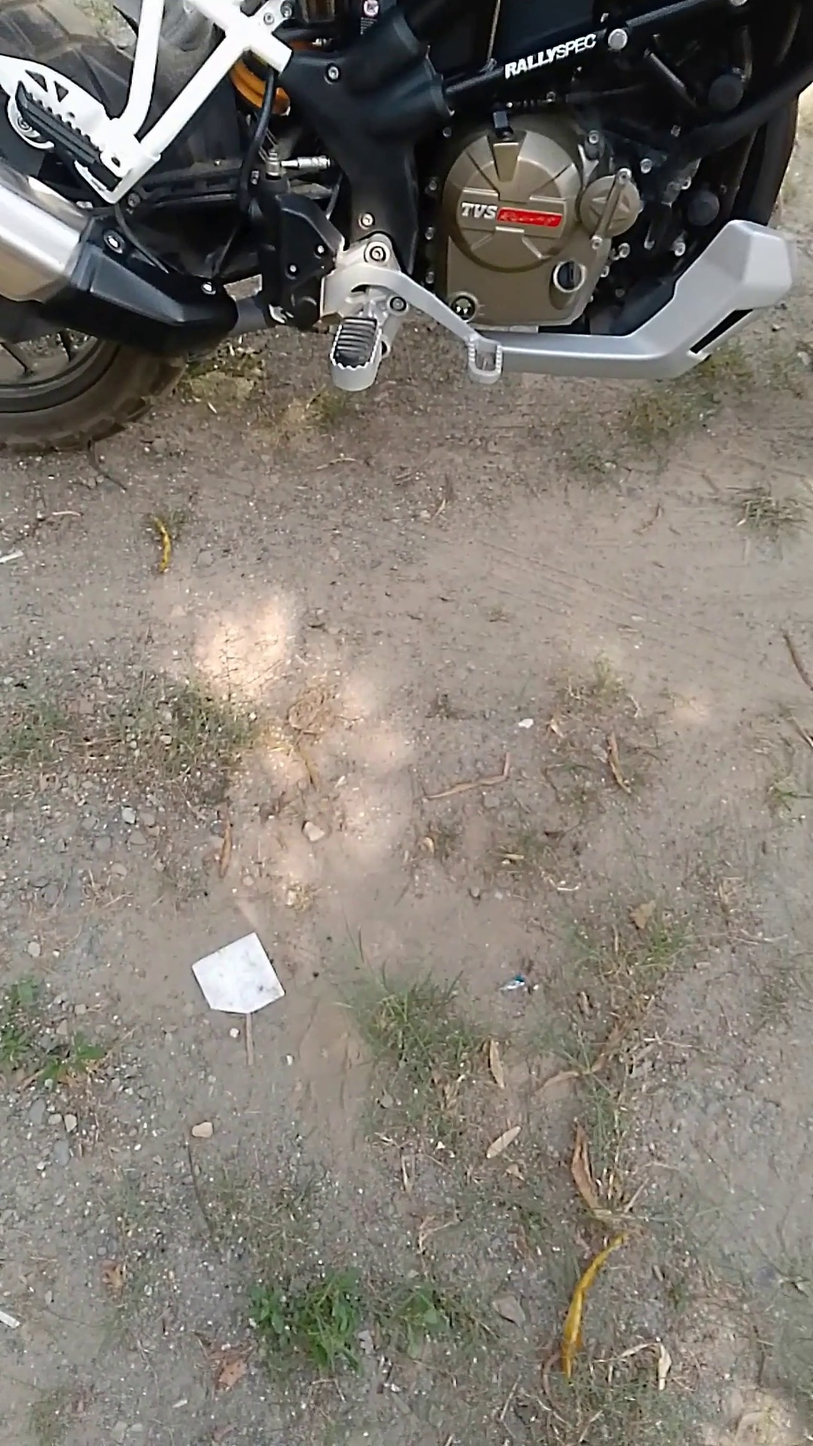engine: (418, 86, 660, 355)
oil_cap: (549, 253, 591, 301)
oil_marker: (439, 286, 489, 326)
